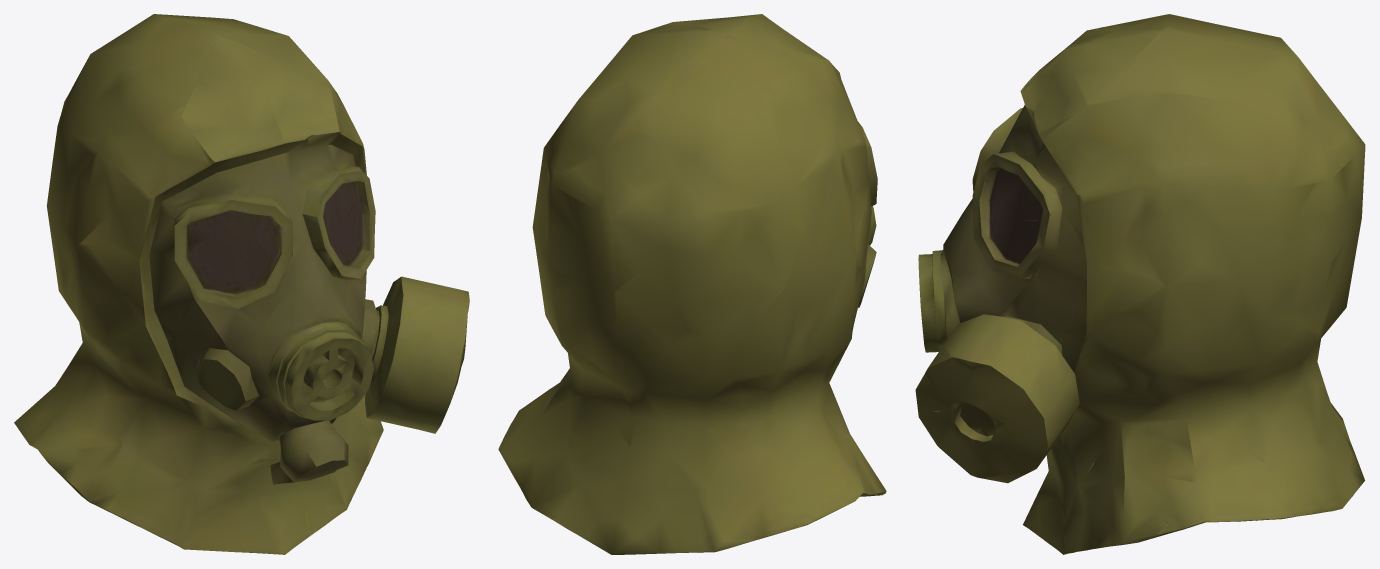
Rendered from mask_gr_gas_idle.glb.
The picture shows the model from 3 angles, left to right: view 1: azimuth 30°, elevation 25°; view 2: azimuth 150°, elevation 25°; view 3: azimuth 270°, elevation 25°; orthographic projection. The views are drawn at different scales.
Parts seen in each view (by area): view 1: tripo_node_5ad02c62-ee02-40af-9331-c8d5de38456e; view 2: tripo_node_5ad02c62-ee02-40af-9331-c8d5de38456e; view 3: tripo_node_5ad02c62-ee02-40af-9331-c8d5de38456e.
Boxes of the visible parts, <box> form: tripo_node_5ad02c62-ee02-40af-9331-c8d5de38456e: <box>14,14,469,554</box>; tripo_node_5ad02c62-ee02-40af-9331-c8d5de38456e: <box>498,14,886,554</box>; tripo_node_5ad02c62-ee02-40af-9331-c8d5de38456e: <box>915,14,1365,554</box>.
Bounding box in the file's own units: 0.3175 × 0.4202 × 0.3458.
1 material, 1 textured.
